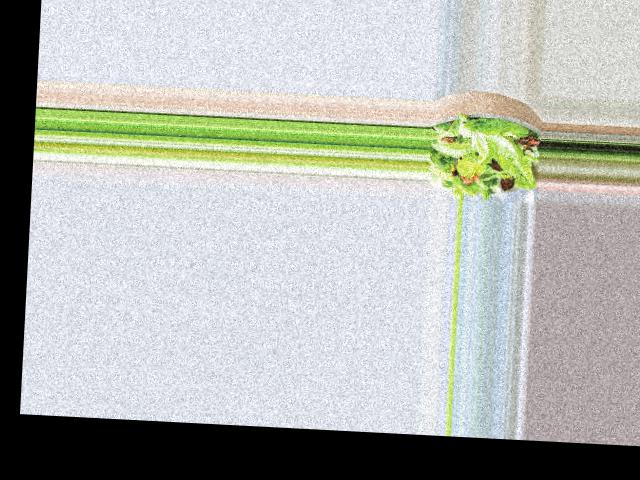lettuce: (433, 115, 531, 197)
